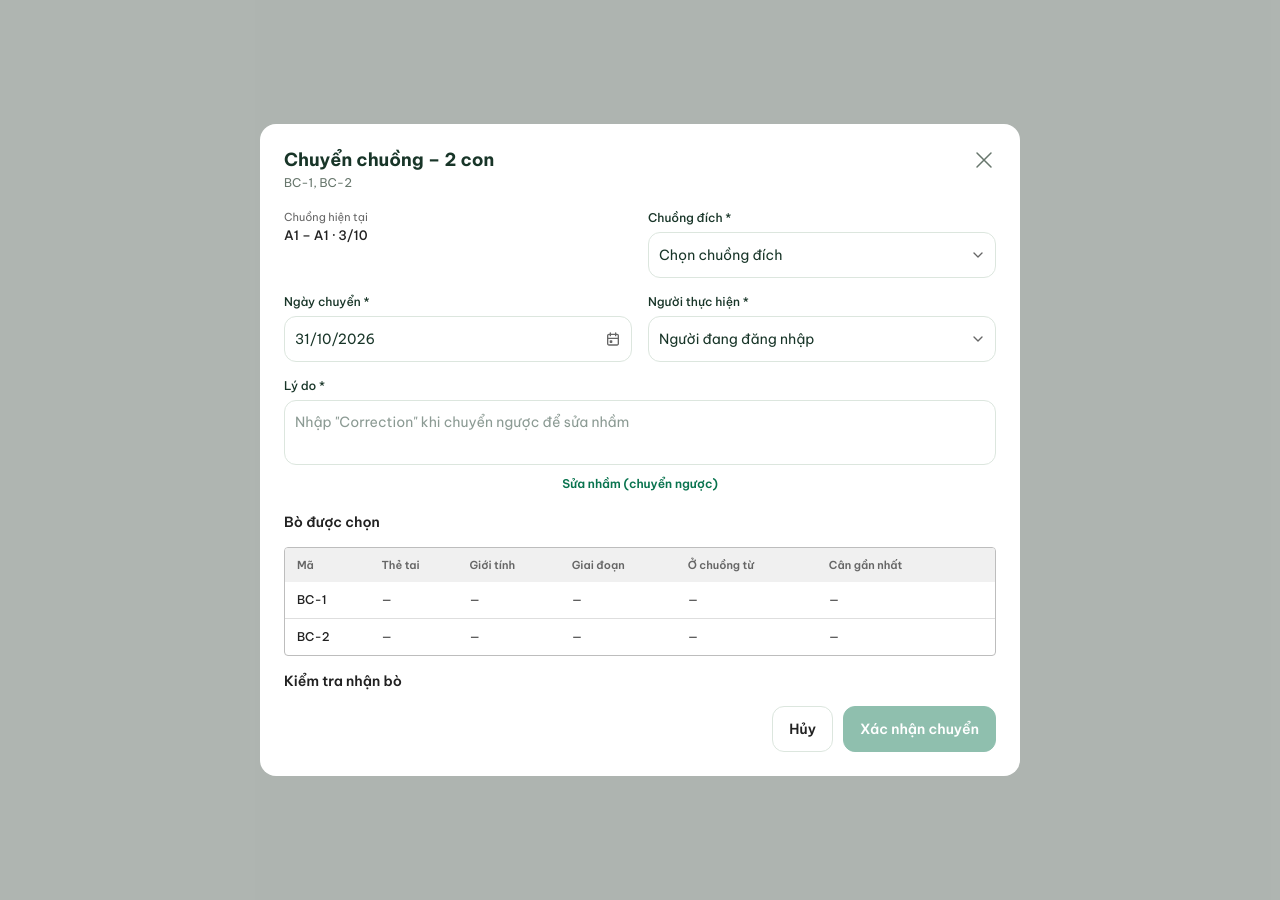
Test case: Move Pen popup › TC-04-14: move date before the current placement or in the future is rejected
Select "B1 – B1 · 1/5" in the dropdown named "Chuồng đích" at (822, 255), box [648,232,996,278]
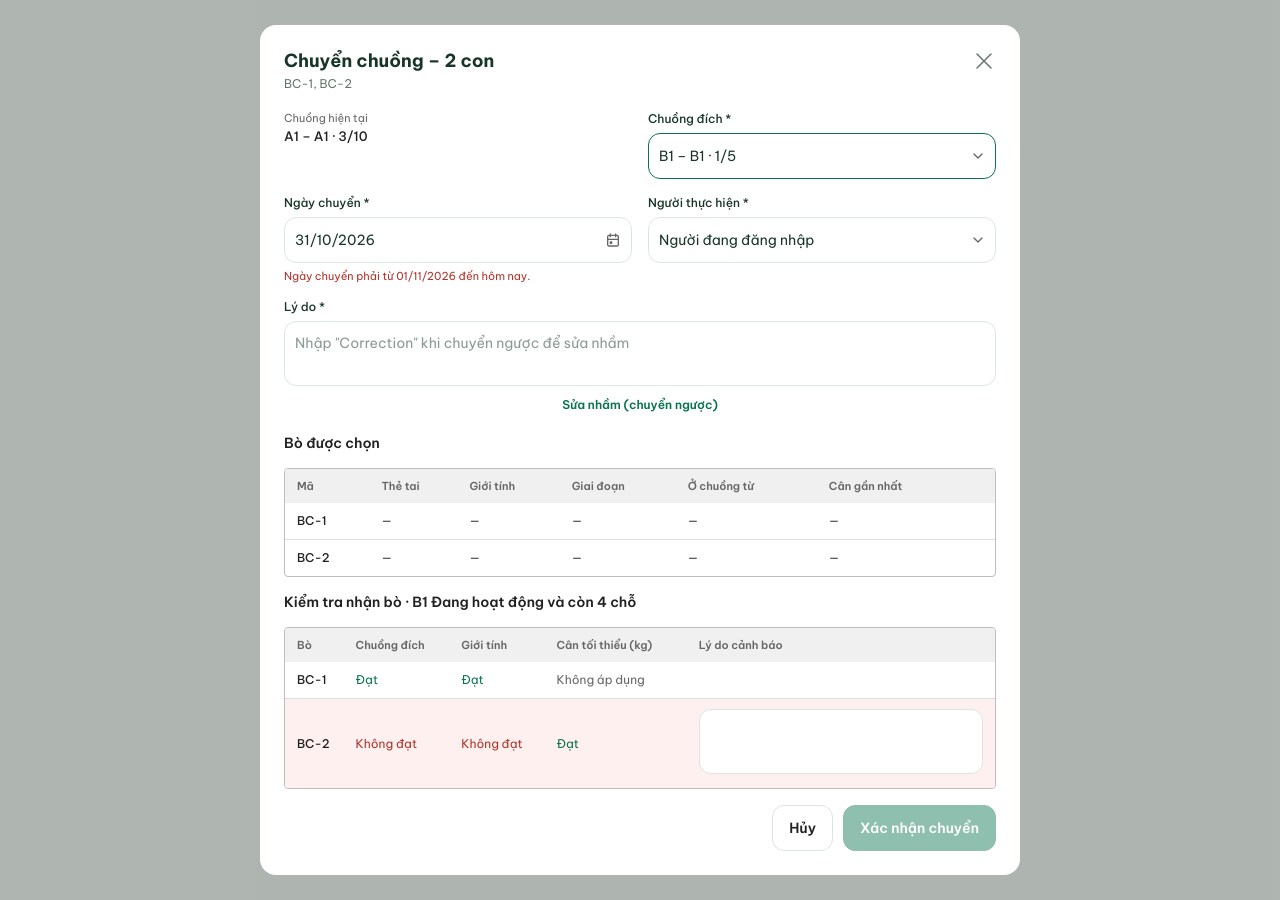
Expected: the text "Ngày chuyển phải từ 01/11/2026 đến hôm nay." is shown, [284,269,530,283]
